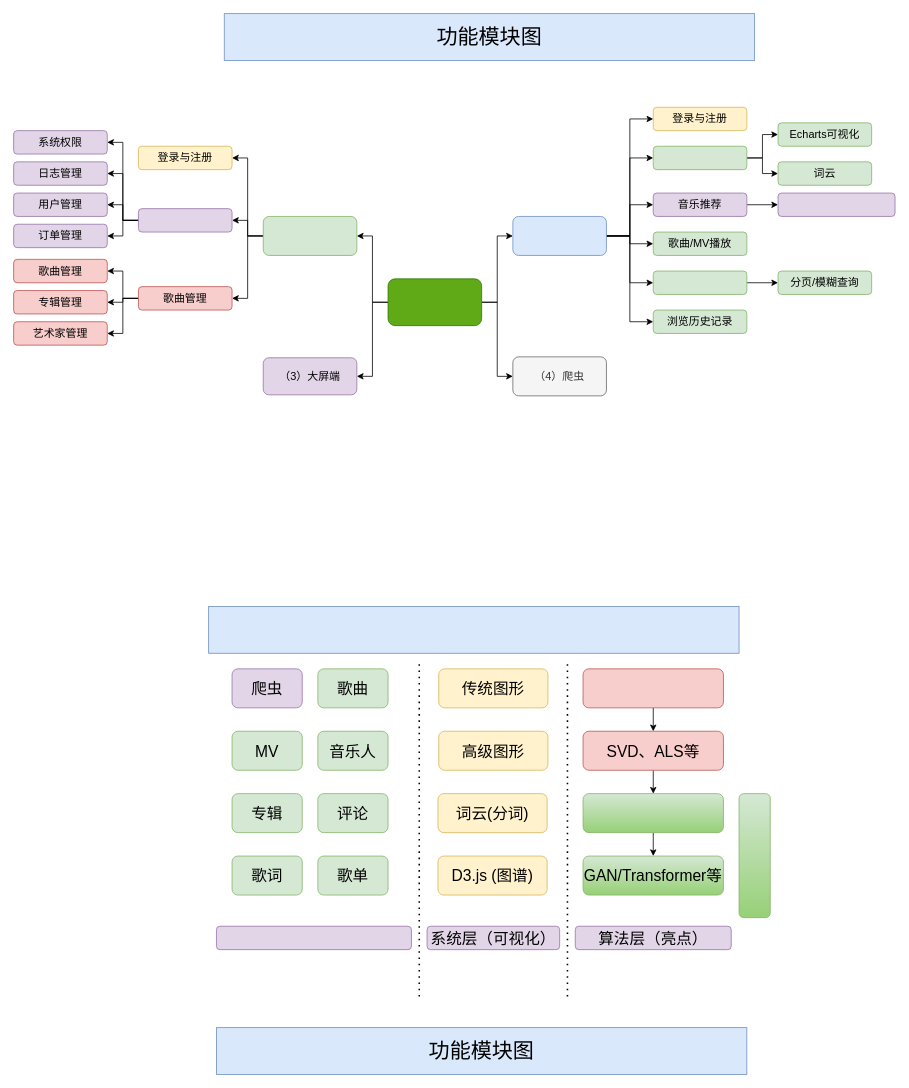
The diagram is 909 pixels wide and 1088 high, and some of its shapes have lost their labels. The shapes that lost their labels are listed below. From the top down, each one's centre as x and y in pixels, then its label:
At [699,157]: "数据可视化".
At [185,220]: "系统管理".
At [836,204]: "双协同过滤推荐算法".
At [309,235]: "（2）管理端".
At [559,235]: "（1）网站端".
At [434,302]: "Spark音乐 大数据平台".
At [699,282]: "数据查询".
At [473,629]: "音乐类思路".
At [652,688]: "KNN、userCF、itemCF协同过滤".
At [652,813]: "CNN/RNN/LSTM".
At [754,855]: "深度神经网络".
At [313,937]: "数据层".
